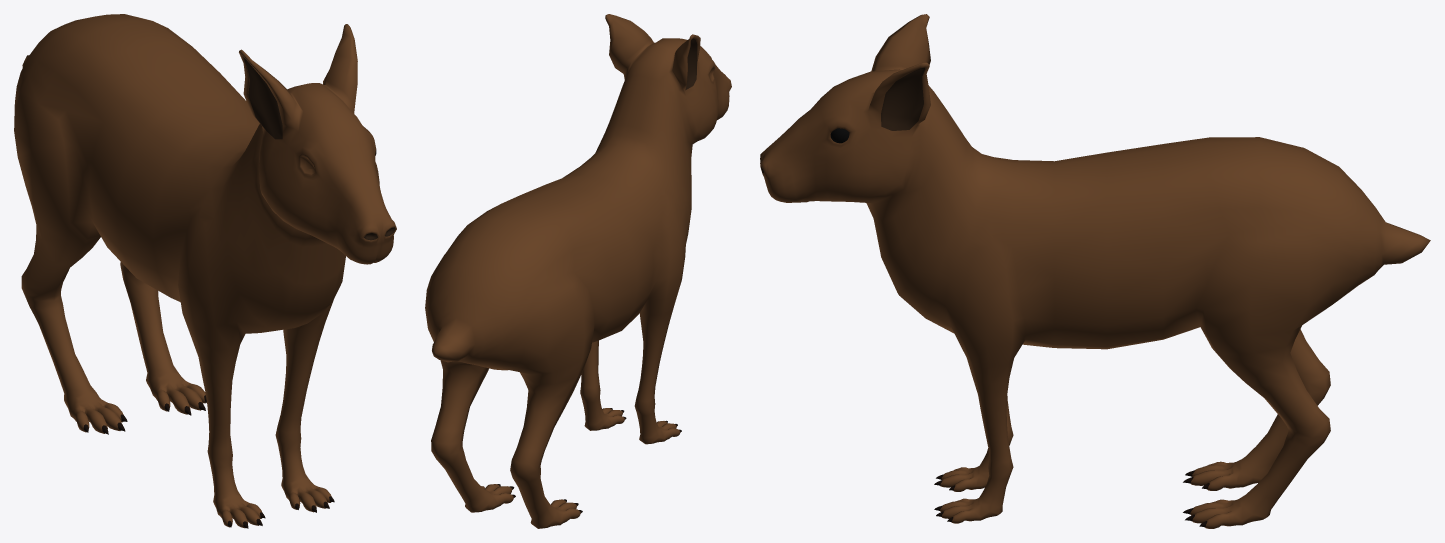
Rendered from cavy.obj.
3 renders of one model, left to right at view 1: azimuth 30°, elevation 25°; view 2: azimuth 150°, elevation 25°; view 3: azimuth 270°, elevation 25°, orthographic. The views are drawn at different scales.
Visible parts, largest first — view 1: patagonian_cavy; view 2: patagonian_cavy; view 3: patagonian_cavy.
Part boxes in pixels (bbox=[...]): patagonian_cavy: bbox=[14, 14, 396, 528]; patagonian_cavy: bbox=[425, 14, 731, 528]; patagonian_cavy: bbox=[760, 14, 1430, 528].
Bounding box in the file's own units: 0.2523 × 0.6481 × 0.8498.
